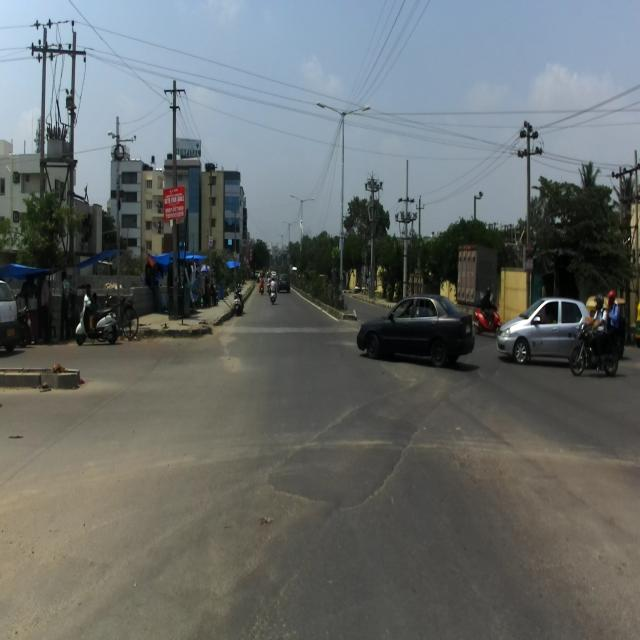car ahead at: (359, 281, 479, 372), (500, 289, 578, 364)
motorcycle ahead at: (73, 287, 118, 348)
